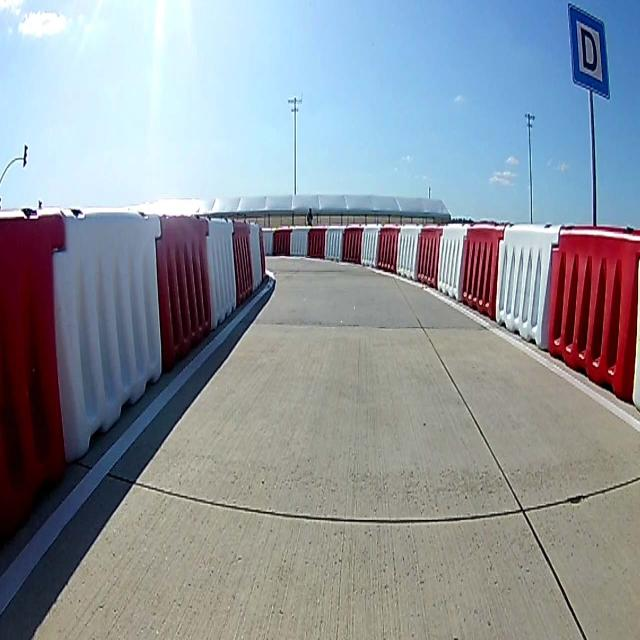durak: (568, 2, 610, 98)
